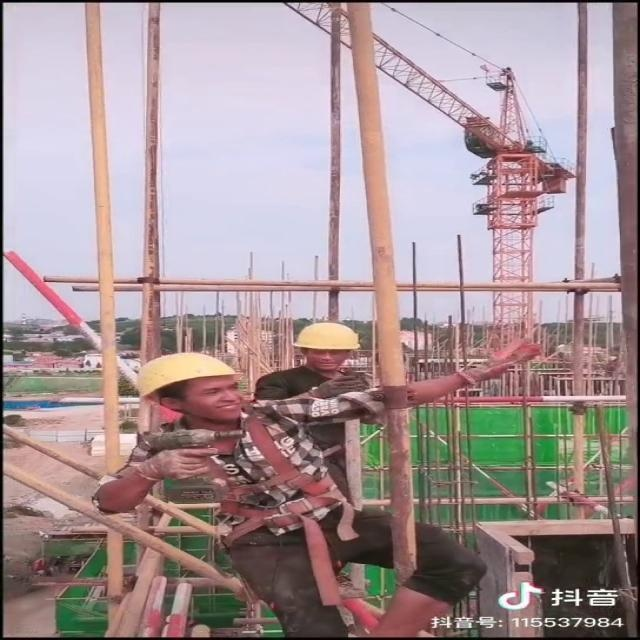Arnes_seguridad: (148, 414, 360, 566)
